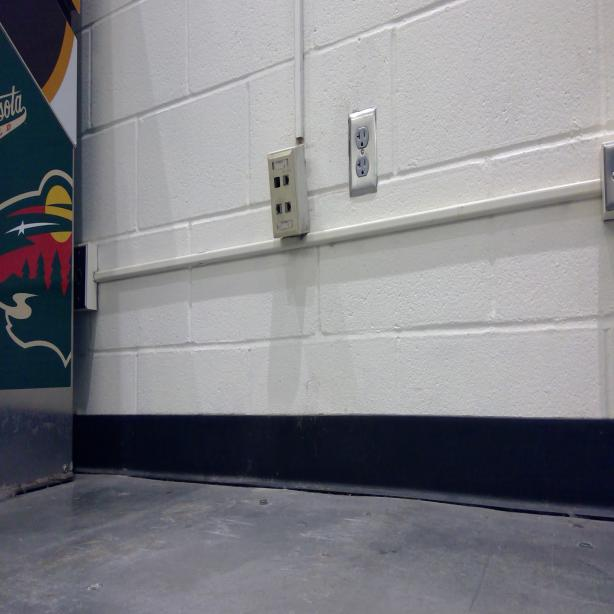typeb: (355, 126, 369, 150), (356, 156, 370, 176)
